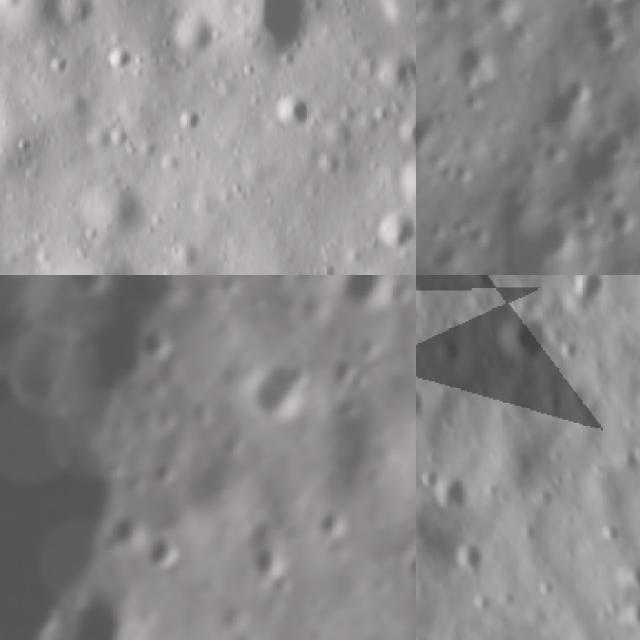crater: (241, 350, 322, 434), (488, 304, 566, 386), (490, 215, 579, 275), (64, 577, 146, 640), (165, 0, 224, 71), (329, 275, 400, 323), (536, 90, 592, 144), (429, 465, 485, 519), (140, 526, 196, 578), (449, 536, 502, 590), (562, 275, 620, 323), (248, 538, 295, 588), (268, 88, 314, 139), (455, 41, 501, 90), (565, 0, 622, 38), (163, 98, 208, 144), (98, 34, 143, 80), (134, 324, 180, 369), (98, 511, 144, 554), (315, 501, 355, 546), (592, 121, 635, 161), (588, 24, 634, 59), (324, 394, 366, 432), (552, 71, 598, 105), (146, 454, 186, 492), (481, 0, 525, 33), (416, 371, 440, 431), (57, 275, 113, 300), (99, 446, 135, 483), (603, 205, 639, 241), (613, 593, 640, 640), (562, 198, 600, 230), (622, 555, 640, 610), (456, 82, 485, 115), (344, 364, 373, 394), (356, 333, 381, 360), (403, 540, 416, 585), (586, 0, 634, 4)
